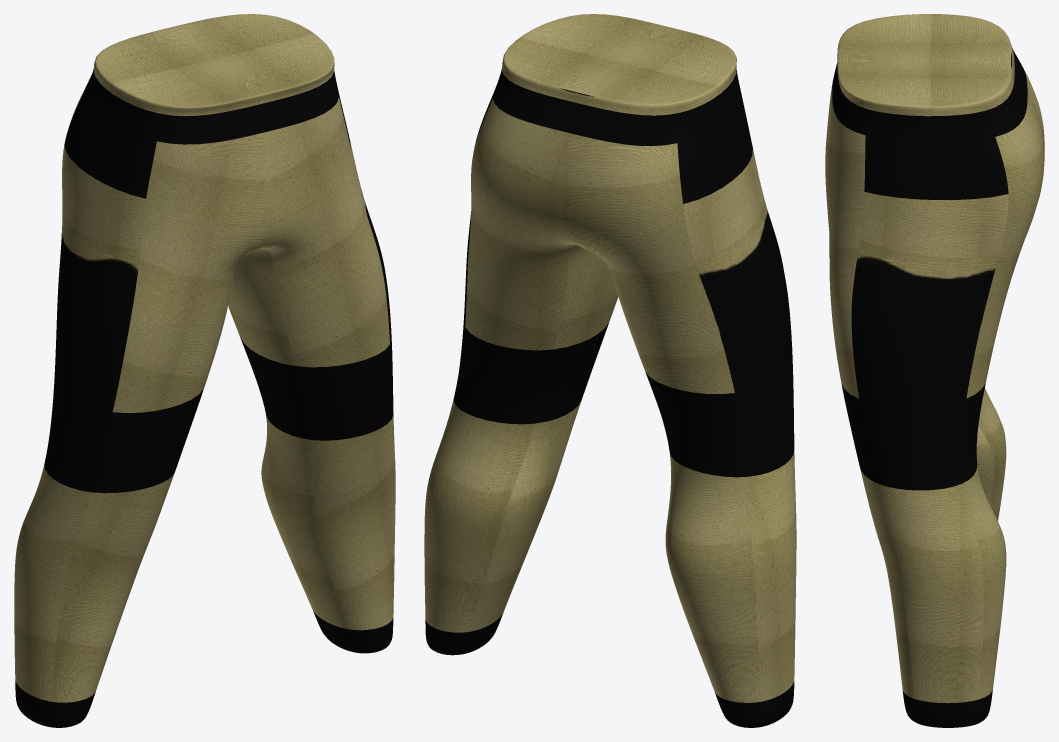
File: shtany-2.fbx
3 views of the same model, side by side, from view 1: azimuth 30°, elevation 25°; view 2: azimuth 150°, elevation 25°; view 3: azimuth 270°, elevation 25° (orthographic). The views are drawn at different scales.
Parts seen in each view (by area): view 1: Shtany; view 2: Shtany; view 3: Shtany.
Boxes of the visible parts, box(x1,y1,x2,y2) form: Shtany: box(14, 14, 395, 727); Shtany: box(424, 14, 796, 727); Shtany: box(825, 14, 1044, 727).
Size of the model in its own units: 52.79 by 87.04 by 29.35.
